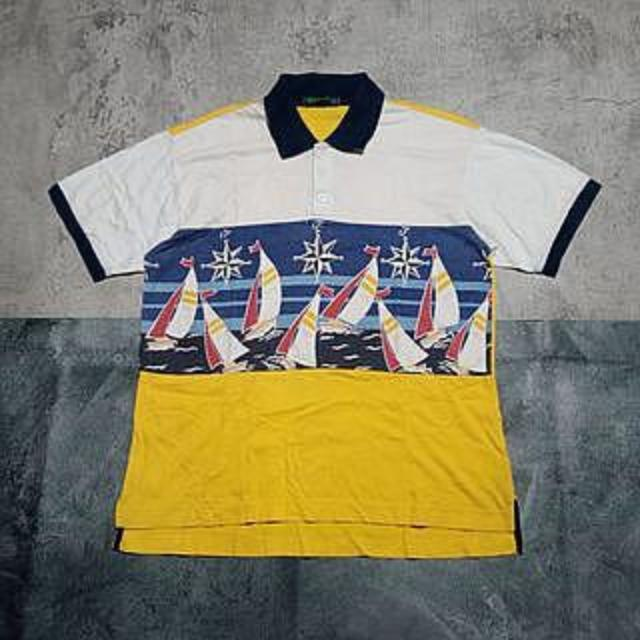T_SHIRT: (28, 62, 599, 567)
